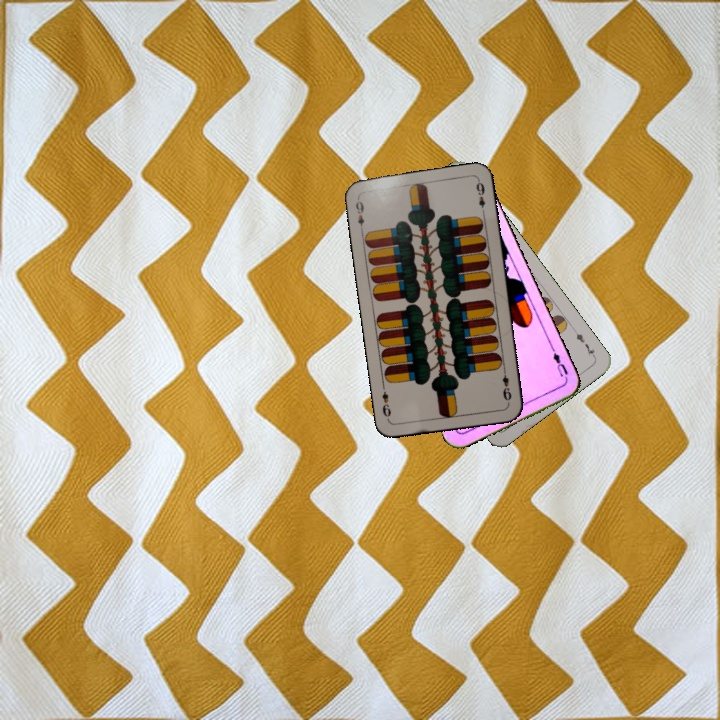E7: (570, 325, 598, 360)
E9: (351, 194, 367, 235), (498, 364, 514, 403)
EU: (547, 344, 571, 383)
